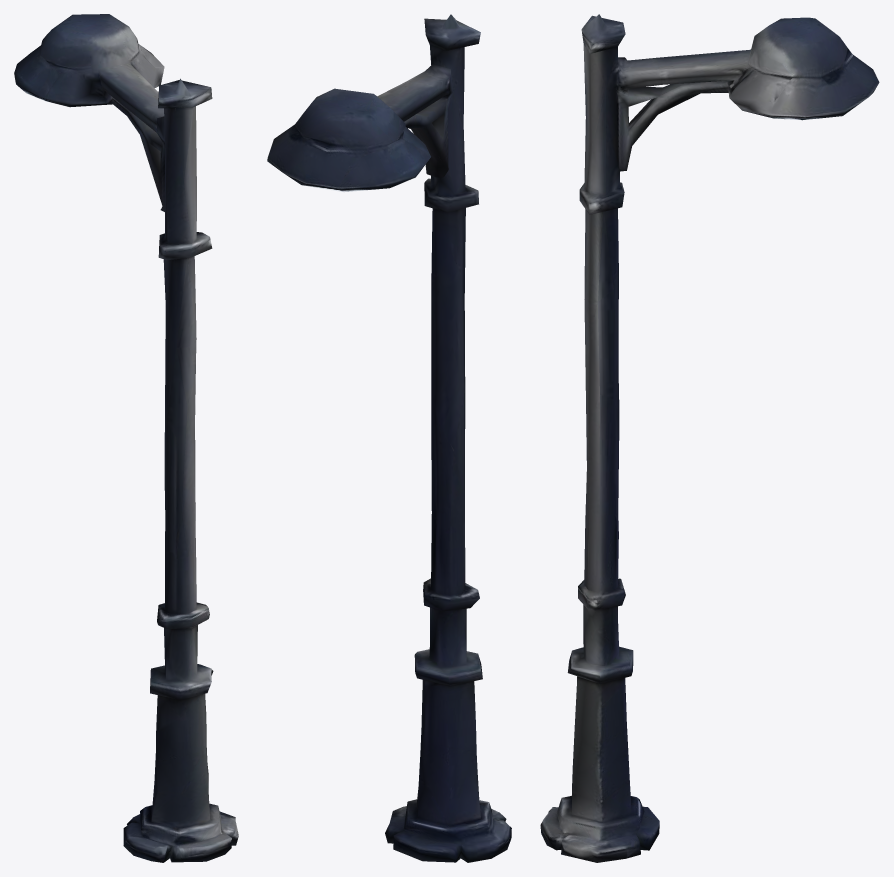
Rendered from poste.glb.
The picture shows the model from 3 angles, left to right: view 1: azimuth 30°, elevation 25°; view 2: azimuth 150°, elevation 25°; view 3: azimuth 270°, elevation 25°; orthographic projection. The views are drawn at different scales.
Parts seen in each view (by area): view 1: tripo_node_64bf1a49-b002-4169-bb83-fe61b88d15d0; view 2: tripo_node_64bf1a49-b002-4169-bb83-fe61b88d15d0; view 3: tripo_node_64bf1a49-b002-4169-bb83-fe61b88d15d0.
Part boxes in pixels (x1,y1,x2,y2): tripo_node_64bf1a49-b002-4169-bb83-fe61b88d15d0: (14,14,238,862); tripo_node_64bf1a49-b002-4169-bb83-fe61b88d15d0: (267,14,511,862); tripo_node_64bf1a49-b002-4169-bb83-fe61b88d15d0: (540,14,879,862).
Bounding box in the file's own units: 0.182 × 1 × 0.3743.
1 material, 1 textured.
